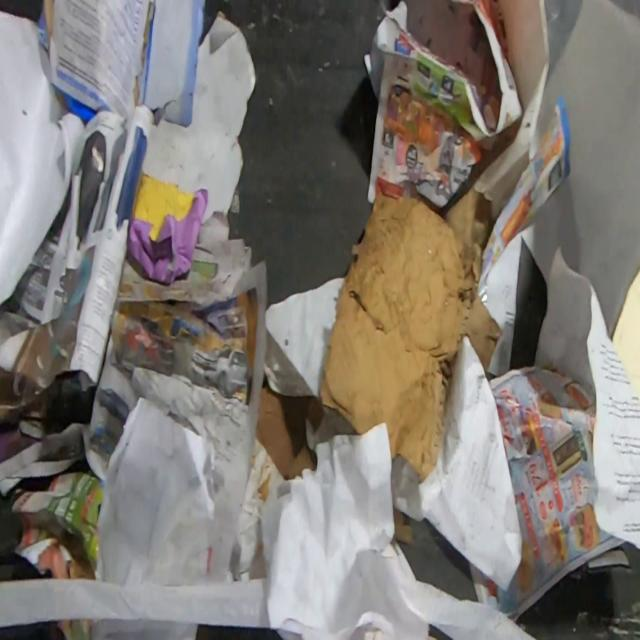cardboard: (318, 183, 506, 484), (36, 0, 207, 128)
